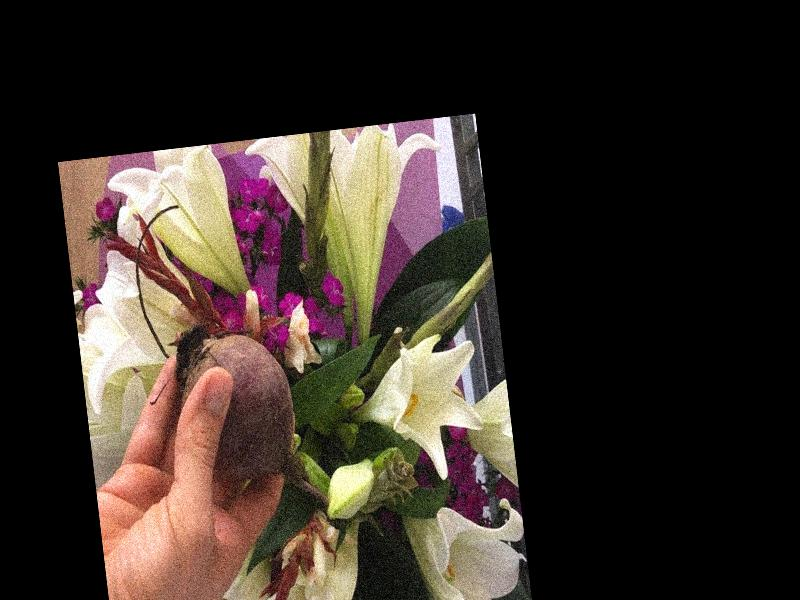Beet: (170, 312, 331, 525)
